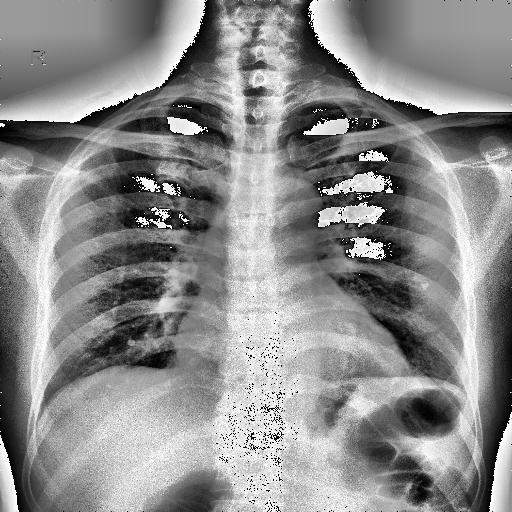0- Aortic enlargement: (264, 175, 326, 241), (273, 178, 324, 227)
3- Cardiomegaly: (172, 314, 414, 377), (172, 332, 406, 382)
9- Other lesion: (418, 283, 430, 291), (420, 282, 430, 290)
